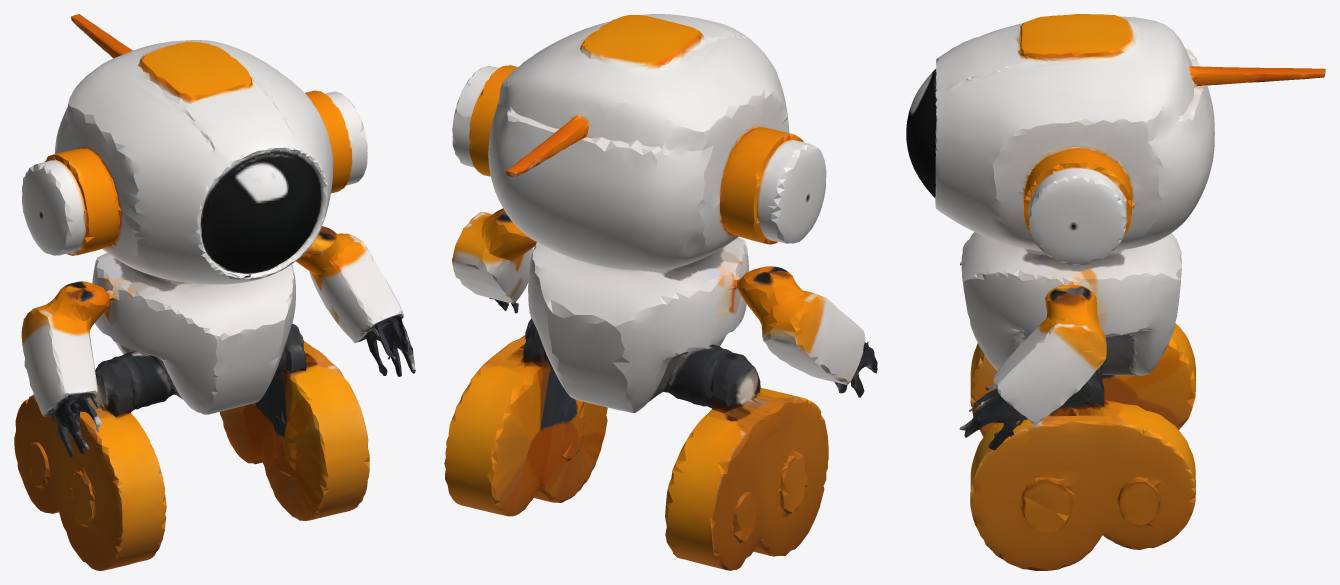
File: worker_delivery.glb
The picture shows the model from 3 angles, left to right: view 1: azimuth 30°, elevation 25°; view 2: azimuth 150°, elevation 25°; view 3: azimuth 270°, elevation 25°; orthographic projection. The views are drawn at different scales.
Parts seen in each view (by area): view 1: Worker_Delivery; view 2: Worker_Delivery; view 3: Worker_Delivery.
Part boxes in pixels (bbox=[...]): Worker_Delivery: bbox=[14, 14, 415, 570]; Worker_Delivery: bbox=[444, 14, 877, 570]; Worker_Delivery: bbox=[906, 14, 1325, 570].
Size of the model in its own units: 1.51 by 1.9 by 1.51.
1 material, 1 textured.
